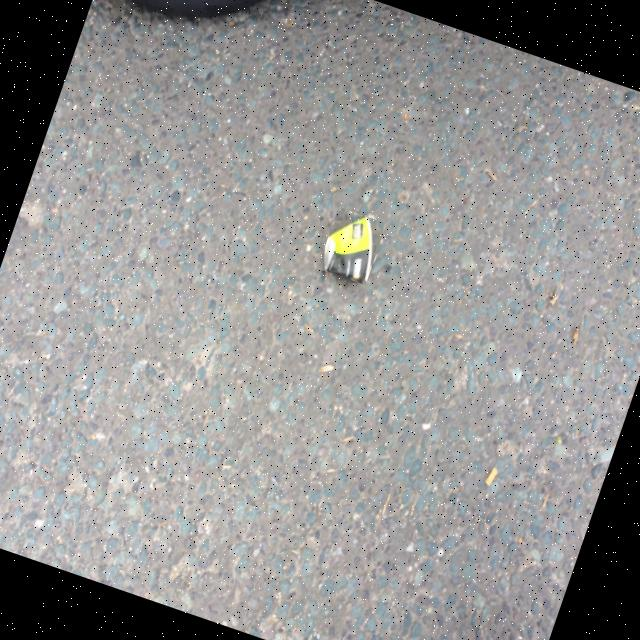Paper cup: (324, 218, 373, 281)
